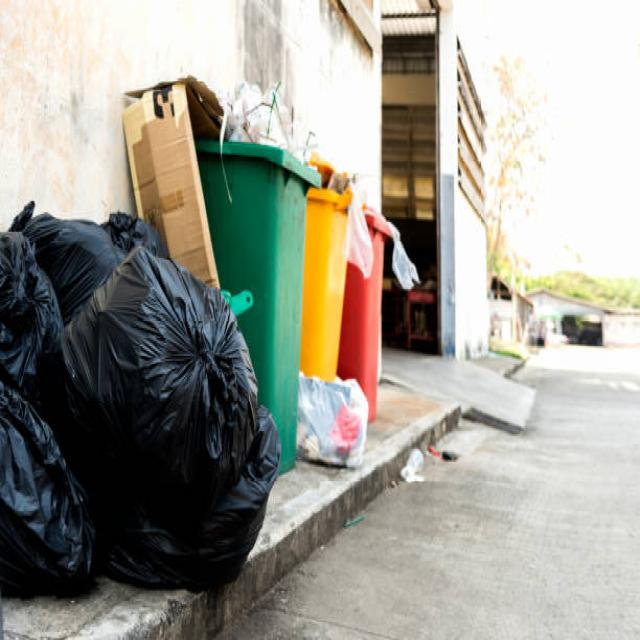garbage: (0, 106, 391, 600)
